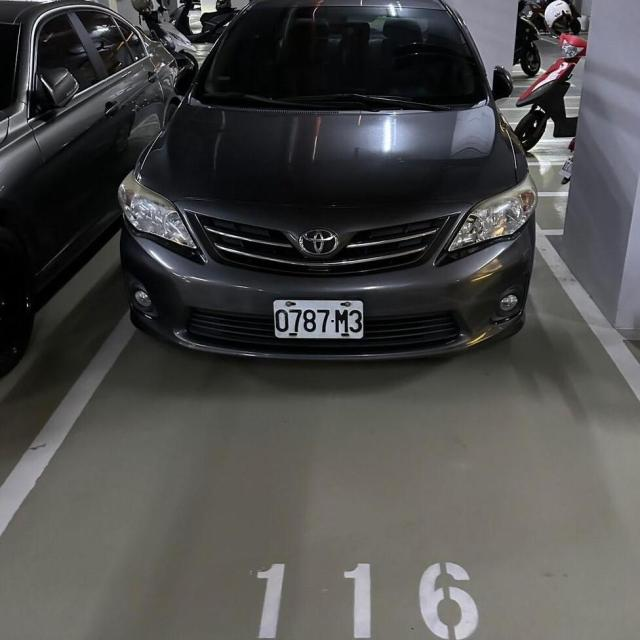W: (270, 292, 371, 345), (559, 157, 573, 180)
